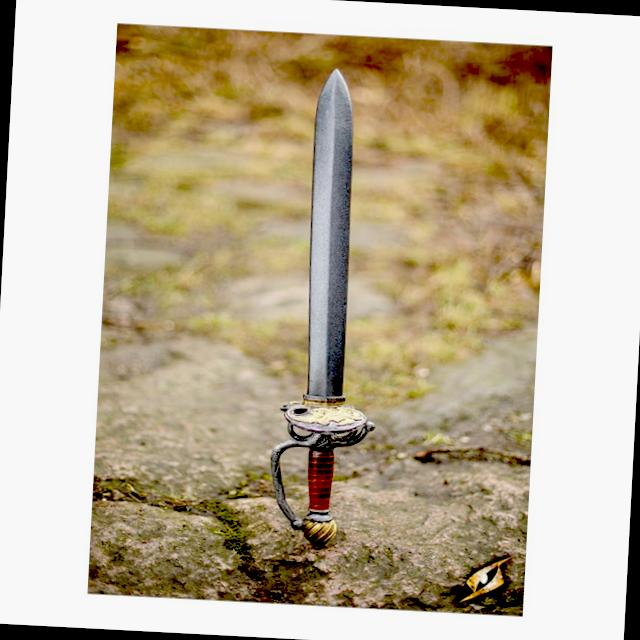short sword: (259, 56, 408, 558)
